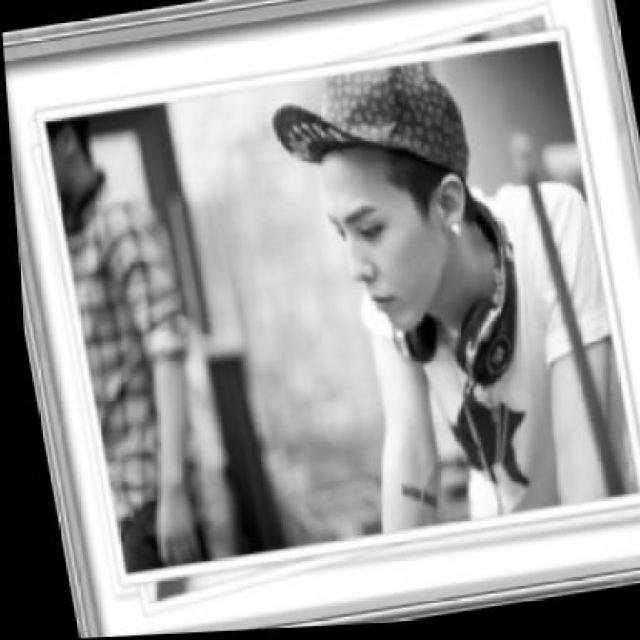hat: (259, 58, 472, 207)
